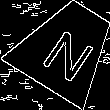N_NE: (34, 16, 99, 80)
